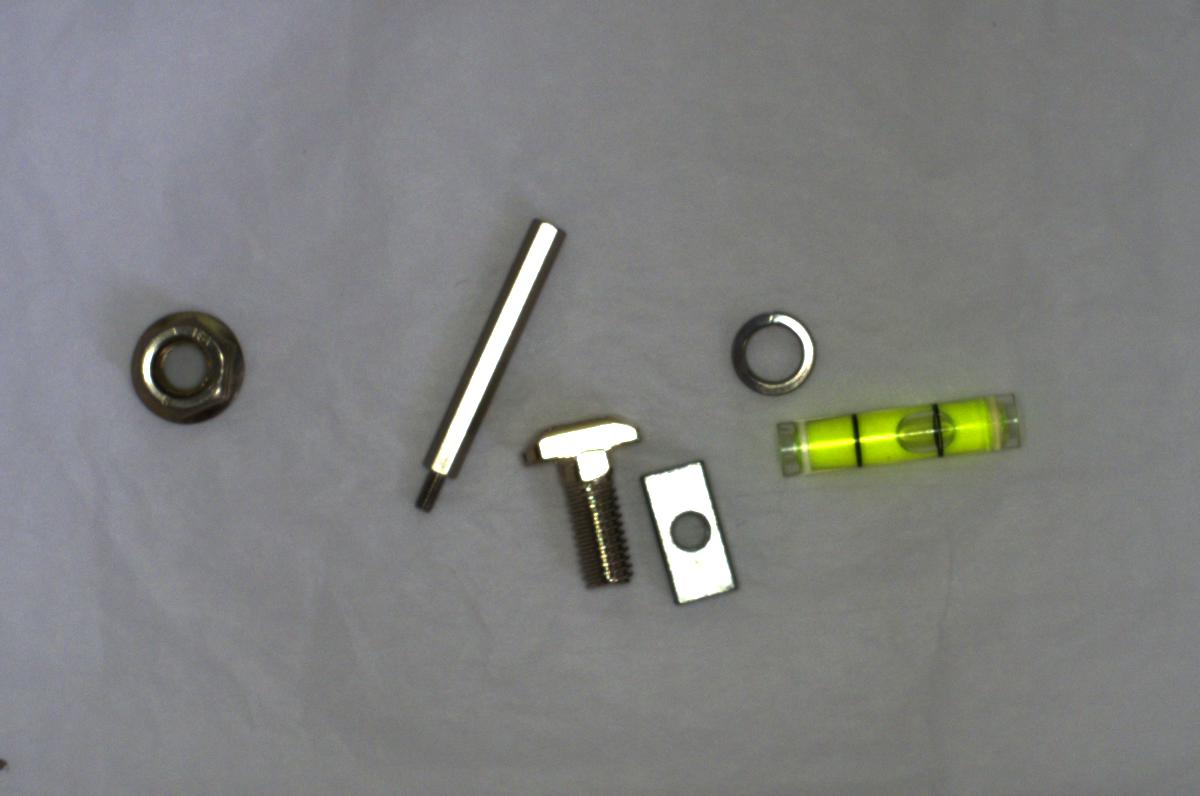Flange nut: (118, 305, 255, 427)
Hexagonal steel column: (394, 212, 565, 515)
Horizontal bubble: (768, 385, 1044, 492)
Rectangular nut: (638, 455, 740, 618)
Spring washer: (715, 303, 828, 401)
T-shaped screw: (519, 407, 650, 599)
